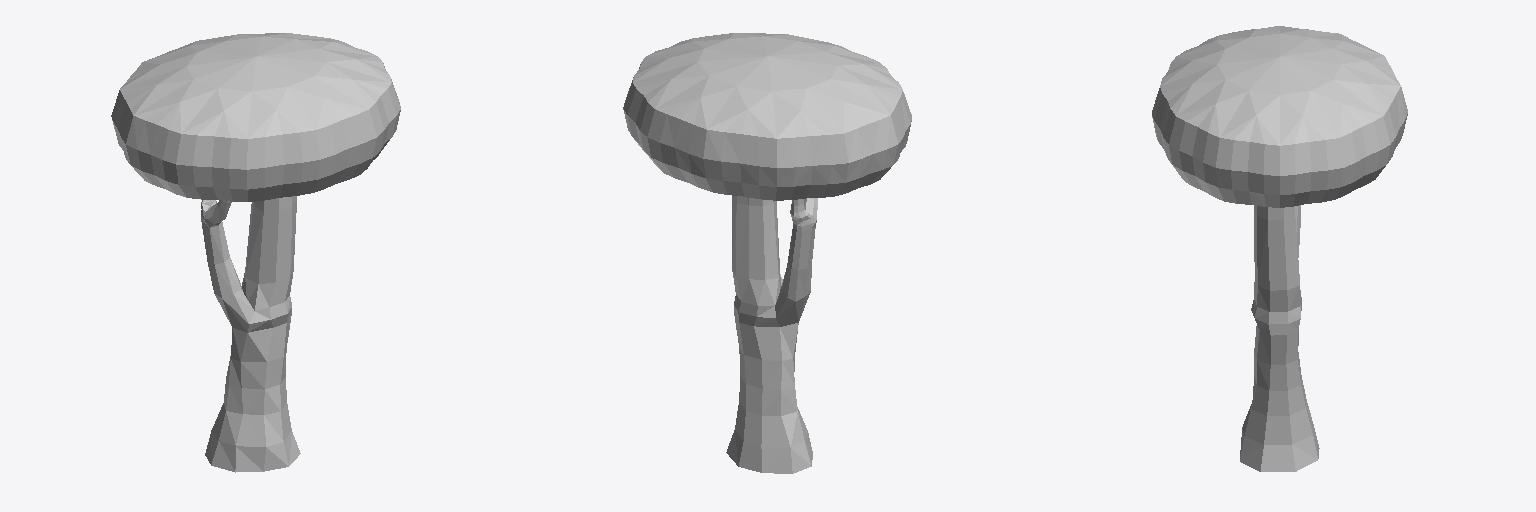
File: O_JungleWorldTree_b.obj
3 renders of one model, left to right at view 1: azimuth 30°, elevation 25°; view 2: azimuth 150°, elevation 25°; view 3: azimuth 270°, elevation 25°, orthographic.
Parts seen in each view (by area): view 1: O_JungleWorldTree_b; view 2: O_JungleWorldTree_b; view 3: O_JungleWorldTree_b.
Boxes of the visible parts, <box> form: O_JungleWorldTree_b: <box>111,33,400,472</box>; O_JungleWorldTree_b: <box>623,33,911,473</box>; O_JungleWorldTree_b: <box>1152,26,1407,471</box>.
Size of the model in its own units: 176 by 257 by 150.